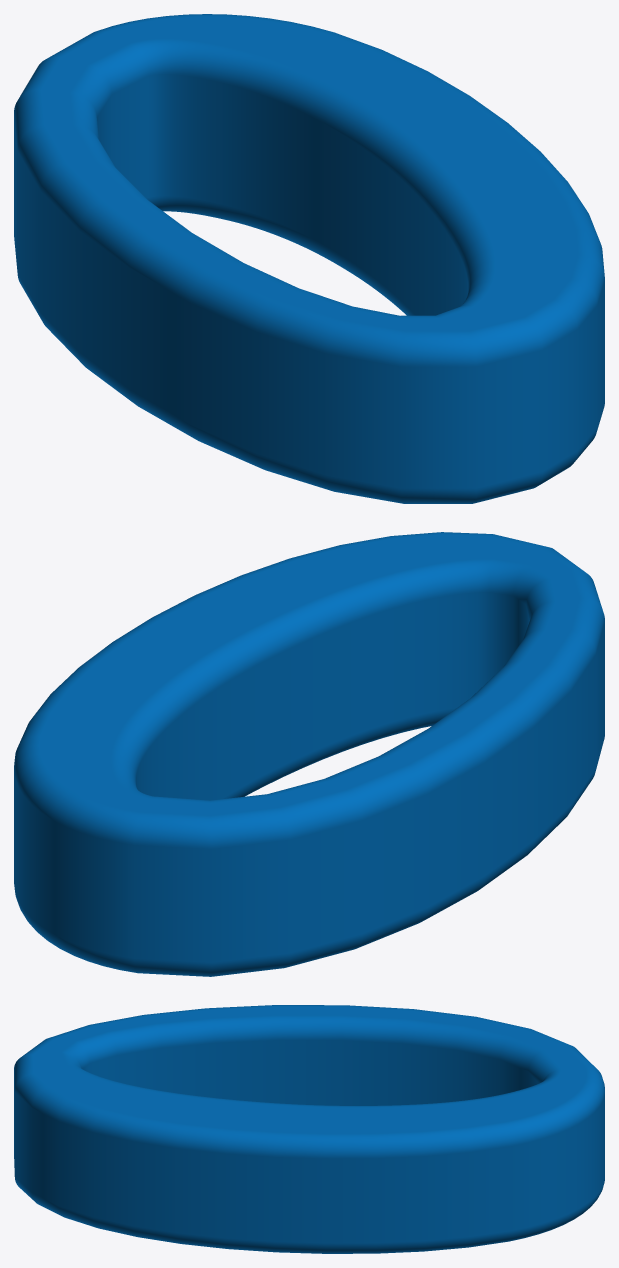
3 views of the same model, one above another, from view 1: azimuth 30°, elevation 25°; view 2: azimuth 150°, elevation 25°; view 3: azimuth 270°, elevation 25° (orthographic). The views are drawn at different scales.
Parts seen in each view (by area): view 1: 1; view 2: 1; view 3: 1.
Boxes of the visible parts, box(x1,y1,x2,y2) form: 1: box(14, 14, 604, 503); 1: box(14, 532, 604, 976); 1: box(14, 1005, 604, 1253).
Size of the model in its own units: 86.63 by 33.4 by 151.
